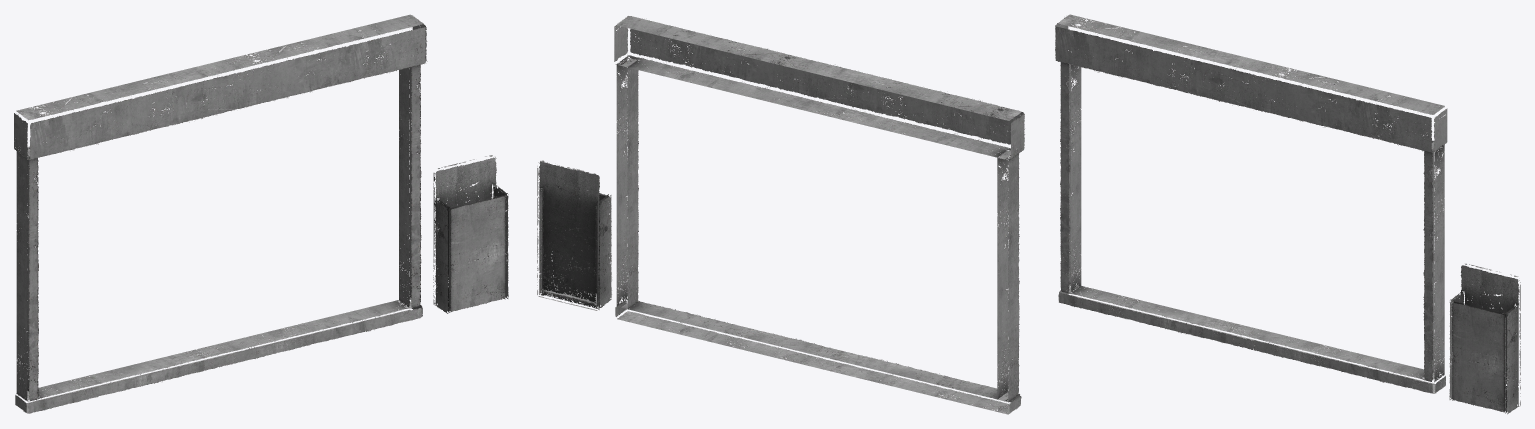
File: sm74_101_mapunderground01a_01.fbx
3 renders of one model, left to right at view 1: azimuth 30°, elevation 25°; view 2: azimuth 150°, elevation 25°; view 3: azimuth 330°, elevation 25°, orthographic. The views are drawn at different scales.
Visible parts, largest first — view 1: LOD_1_Group_0_Sub_1__sm74_101_MapUnderground01A_A_Mat; view 2: LOD_1_Group_0_Sub_1__sm74_101_MapUnderground01A_A_Mat; view 3: LOD_1_Group_0_Sub_1__sm74_101_MapUnderground01A_A_Mat.
Part boxes in pixels (x1,y1,x2,y2): LOD_1_Group_0_Sub_1__sm74_101_MapUnderground01A_A_Mat: [14, 14, 508, 413]; LOD_1_Group_0_Sub_1__sm74_101_MapUnderground01A_A_Mat: [537, 16, 1024, 414]; LOD_1_Group_0_Sub_1__sm74_101_MapUnderground01A_A_Mat: [1055, 14, 1520, 414].
Bounding box in the file's own units: 1.77 × 1.04 × 0.1097.
